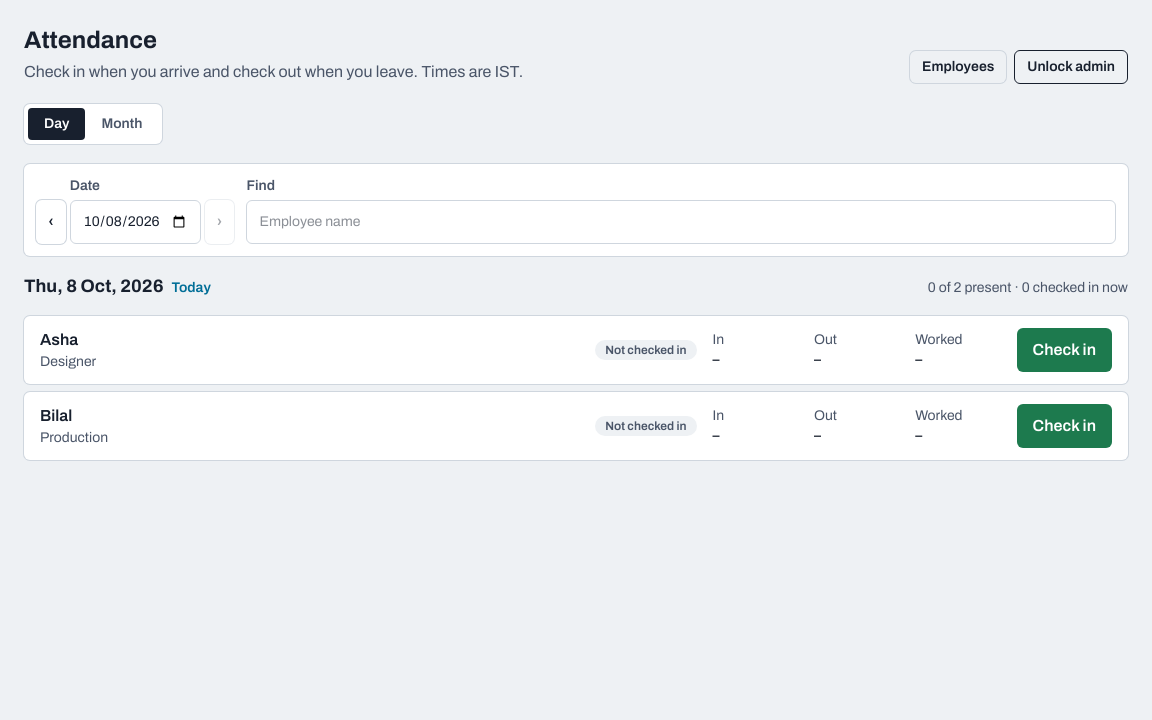
Attendance page › lists everyone for today and checks a person in
The width and height of the screenshot is (1152, 720).
Expected: the text "Not checked in" in the row of "Asha" is shown, [605,343,687,357]
Expected: the text with test id "attendance-counts" reads "0 of 2 present · 0 checked in now", [928,278,1128,298]
Click the button with aria-label "Check in Asha": (1064, 350) [1017,328,1112,372]
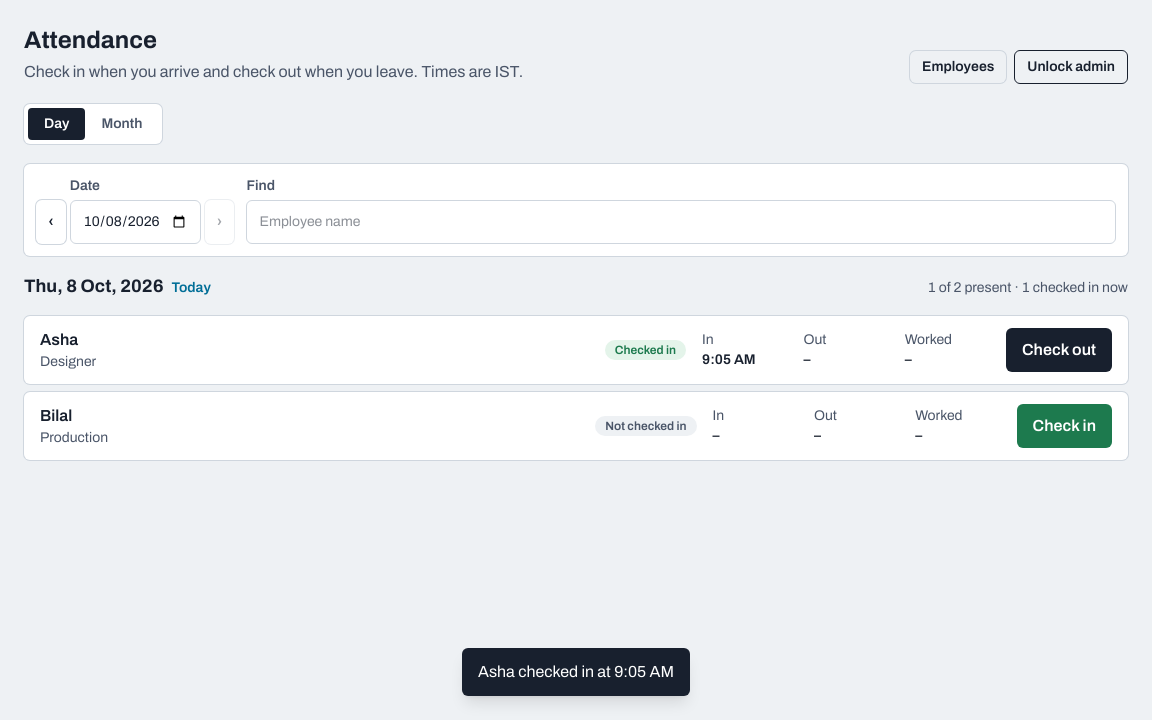
Expected: the text "Checked in" is shown, [605,340,686,360]
Now the text "9:05 AM" is shown, box [702,352,756,367]
Now the button with aria-label "Check out Asha" is shown, box [1006,328,1112,372]
